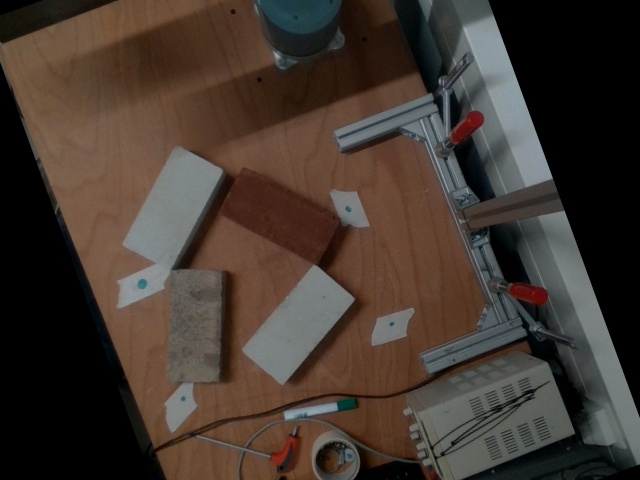brick: (238, 262, 355, 385), (120, 144, 223, 271), (216, 165, 341, 268), (163, 268, 223, 386)
